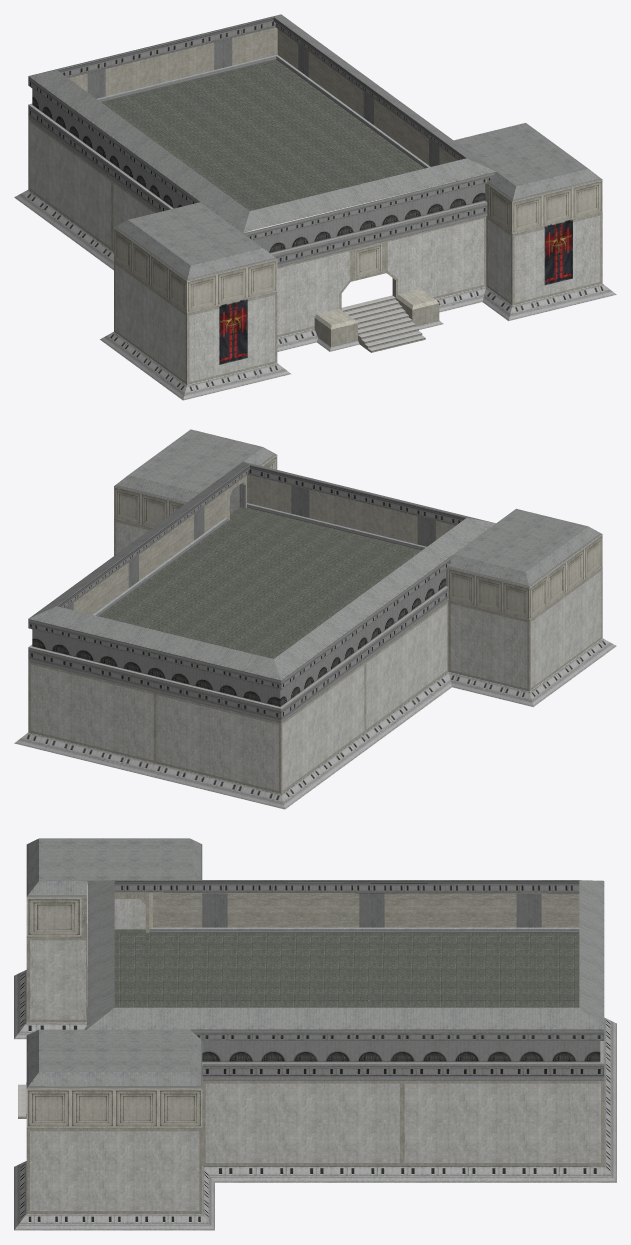
File: thm_corl_assoc_hall_civ_s01_r0_exterior_mesh_exterior_l1.fbx
3 views of the same model, one above another, from view 1: azimuth 30°, elevation 25°; view 2: azimuth 150°, elevation 25°; view 3: azimuth 270°, elevation 25° (orthographic). The views are drawn at different scales.
Visible parts, largest first — view 1: mesh_node; view 2: mesh_node; view 3: mesh_node.
Part boxes in pixels (left/top/right/bottom): mesh_node: left=14, top=14, right=616, bottom=400; mesh_node: left=14, top=429, right=616, bottom=809; mesh_node: left=14, top=838, right=616, bottom=1230.
Bounding box in the file's own units: 48 × 14 × 48.
